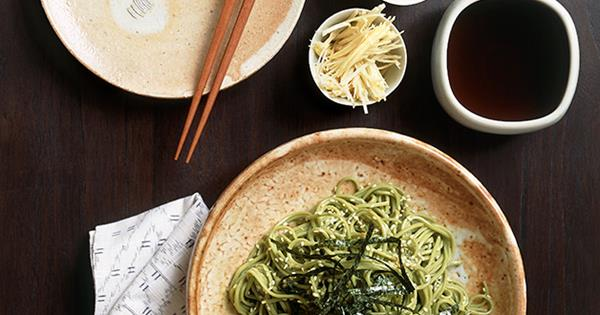Soba: (227, 178, 487, 315)
